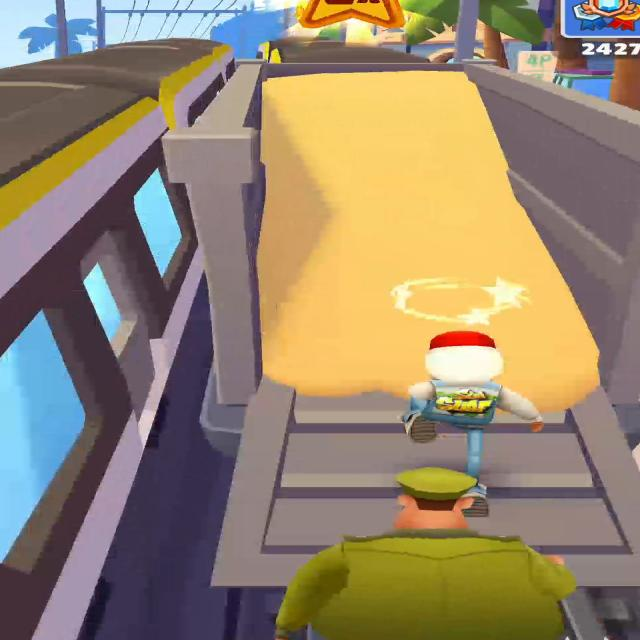climber: (162, 39, 639, 602)
police: (275, 468, 576, 640)
train: (0, 39, 234, 640)
